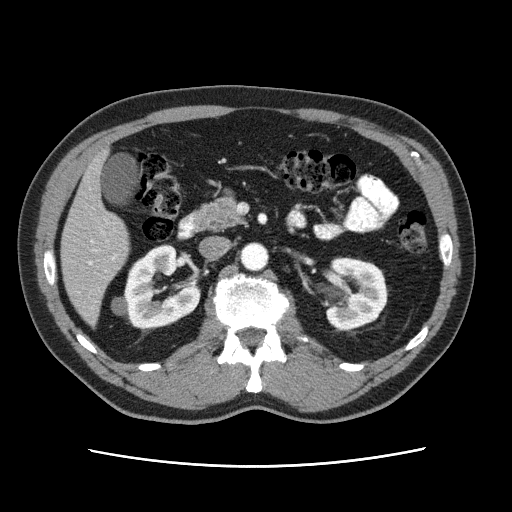Lesion: (108, 294, 128, 323)
